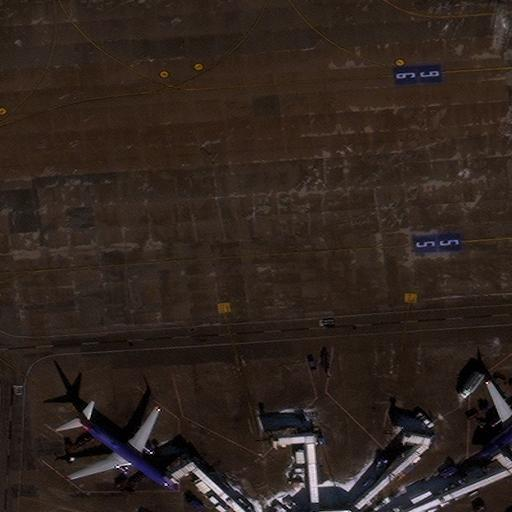Medium Civil Transport: (69, 410, 175, 490), (479, 383, 512, 456)
